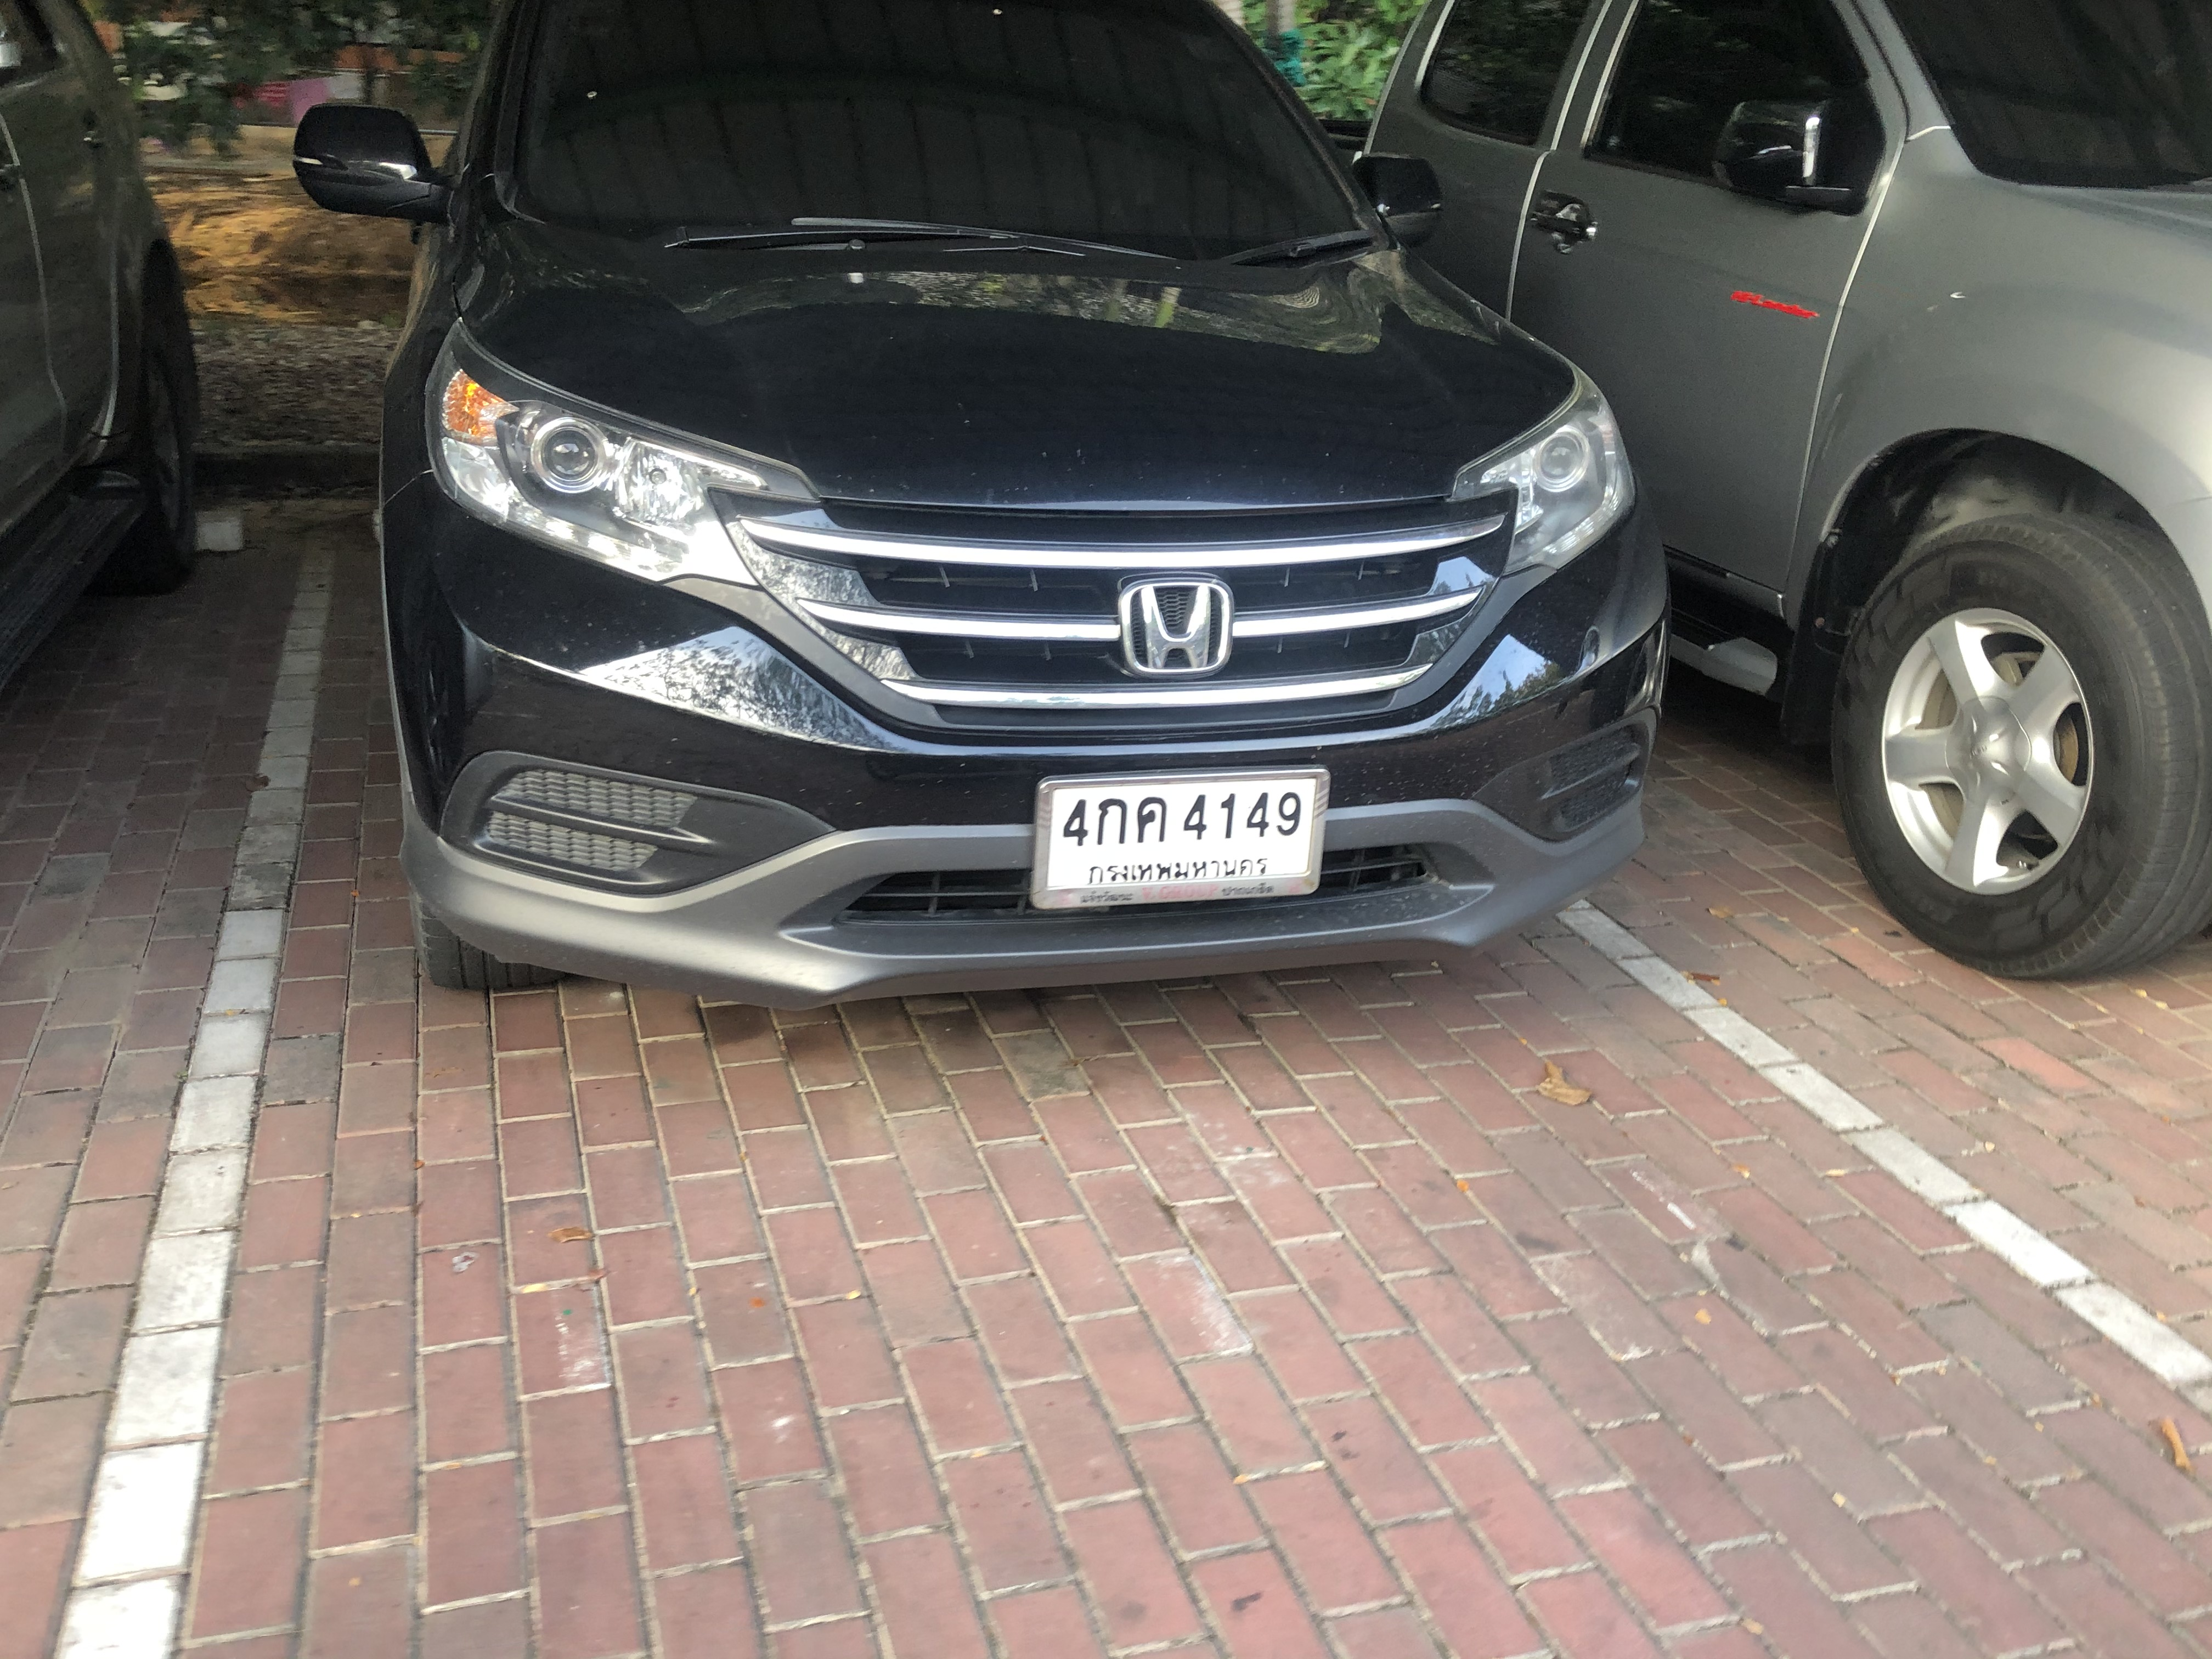in: (1050, 781, 1315, 899)
out: (1033, 767, 1331, 913)
